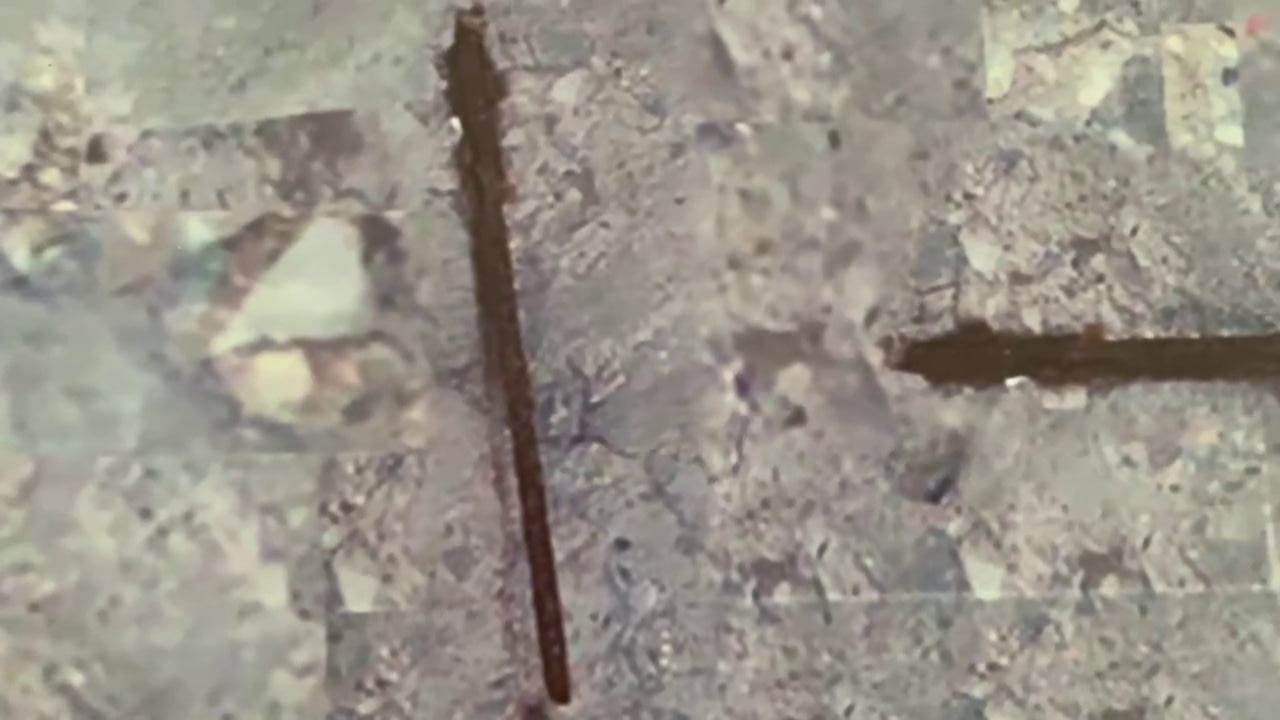Exposed reinforcement: (445, 1, 573, 705), (884, 318, 1280, 393)
